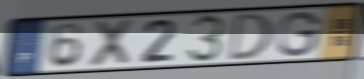2: (138, 18, 177, 64)
3: (184, 13, 227, 65)
6: (48, 21, 85, 69)
D: (226, 11, 275, 63)
G: (276, 10, 323, 59)
X: (86, 17, 136, 69)
